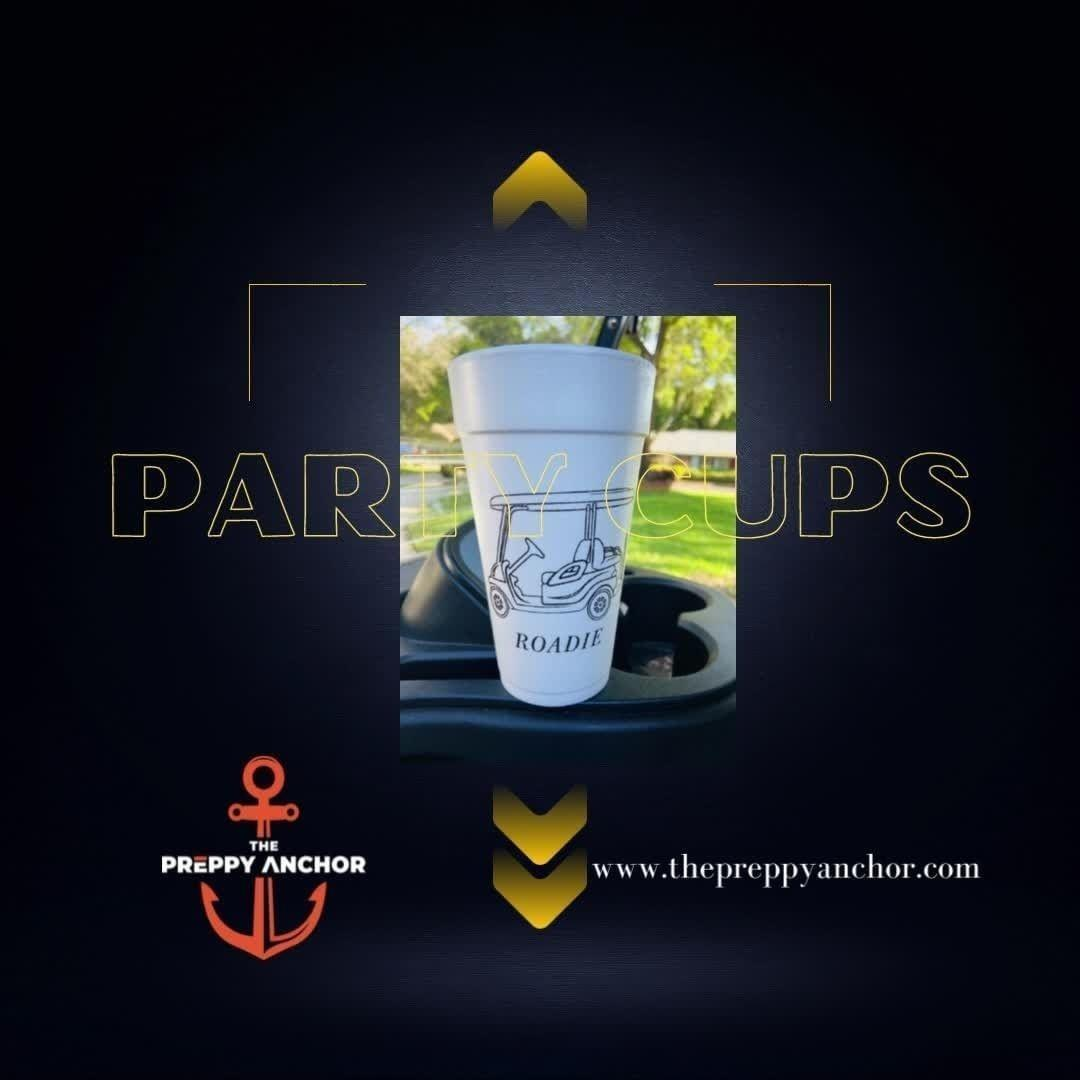cup-disposable: (446, 341, 663, 714)
